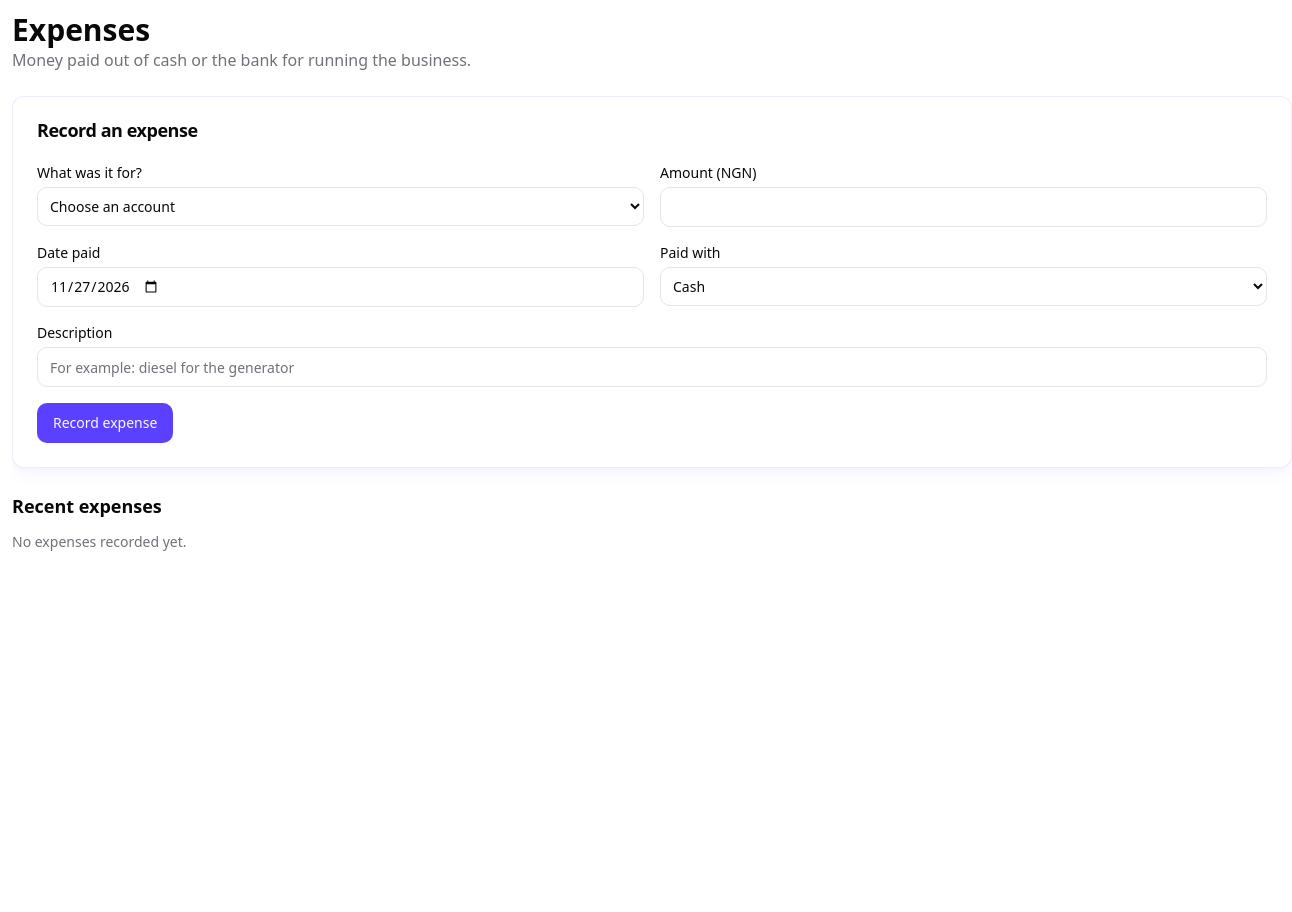
offline, an expense waits on the phone and is sent with its own request
The width and height of the screenshot is (1292, 912).
Select "6300 Fuel and power" in the dropdown named "Expense account" at (340, 206), box [37, 187, 644, 226]
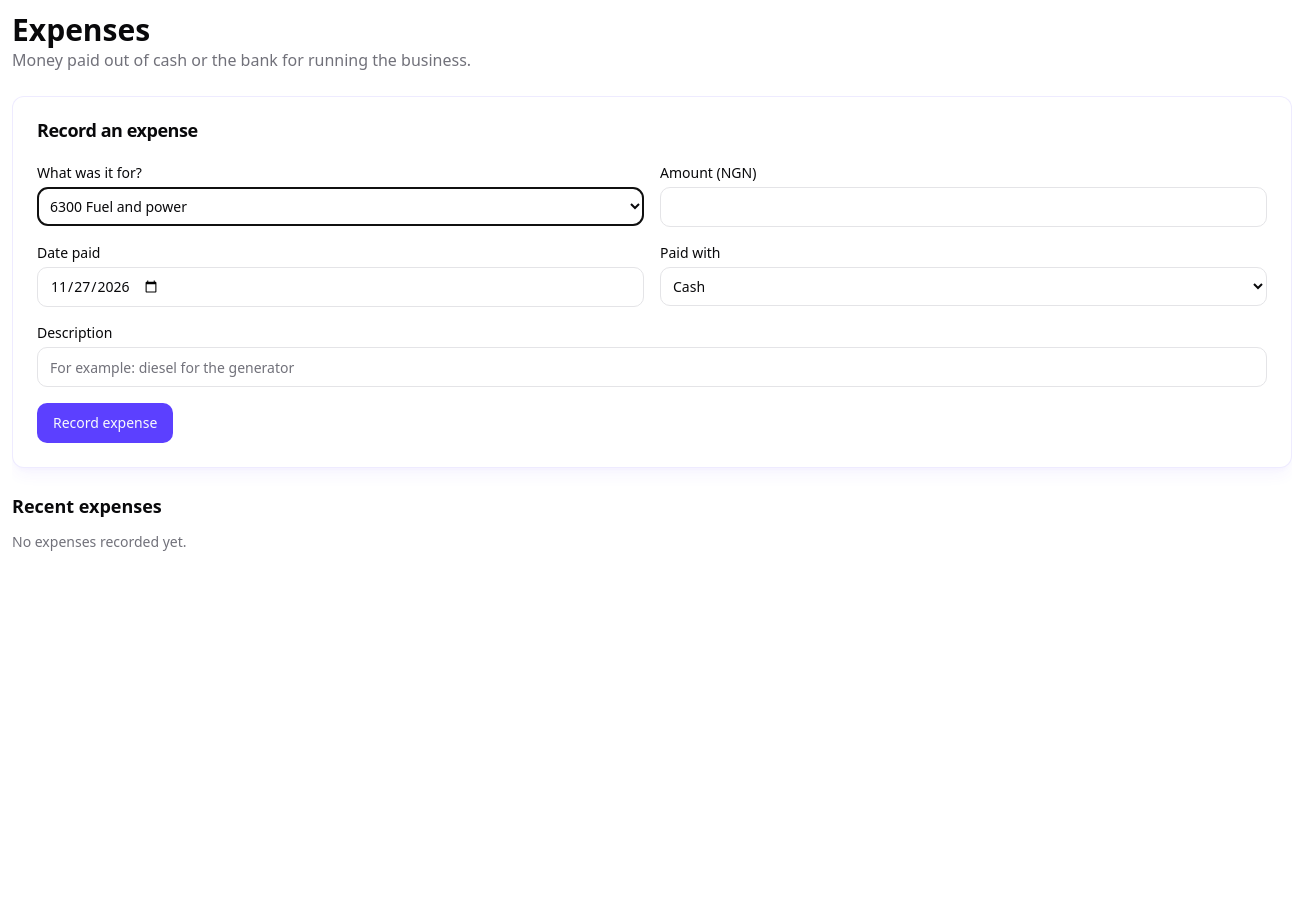
Type "2500" into the field labelled "Amount (NGN)".
click(964, 207); type("2500")  # box [660, 187, 1267, 227]
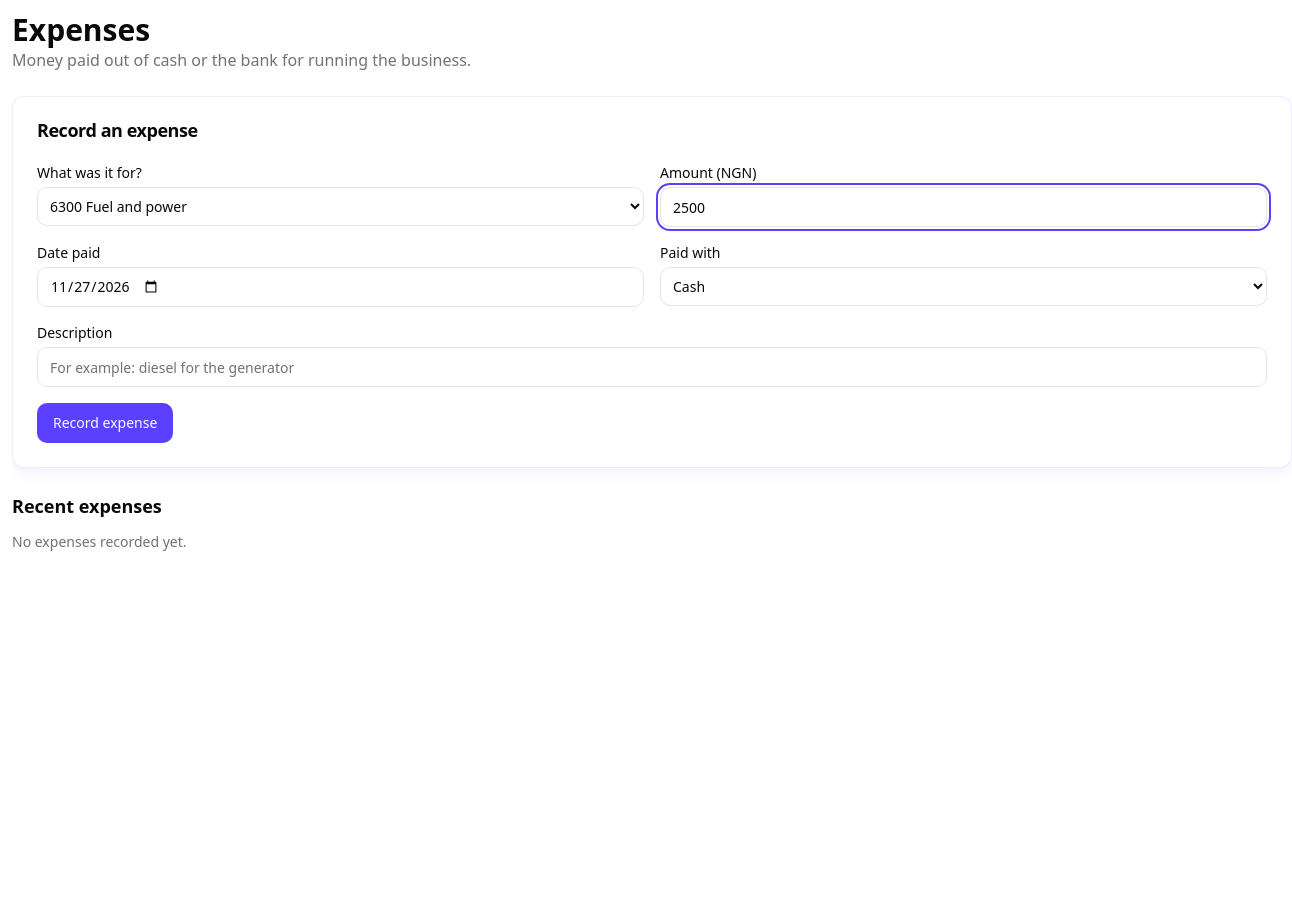
Type "Diesel for the generator" into the field labelled "Description".
click(652, 367); type("Diesel for the generator")  # box [37, 347, 1267, 387]
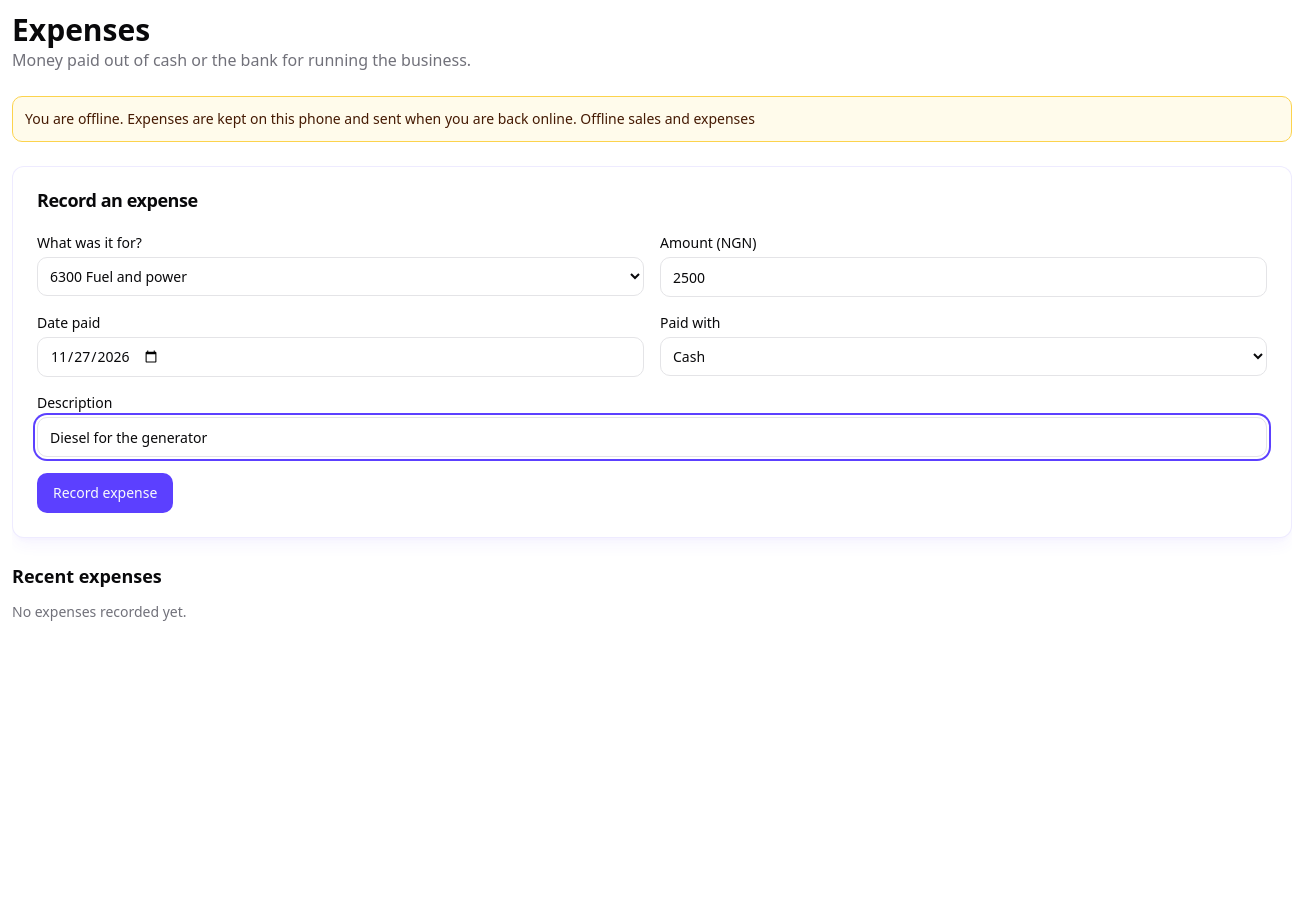
Click the button "Record expense".
click(105, 493)  # box [37, 473, 173, 513]
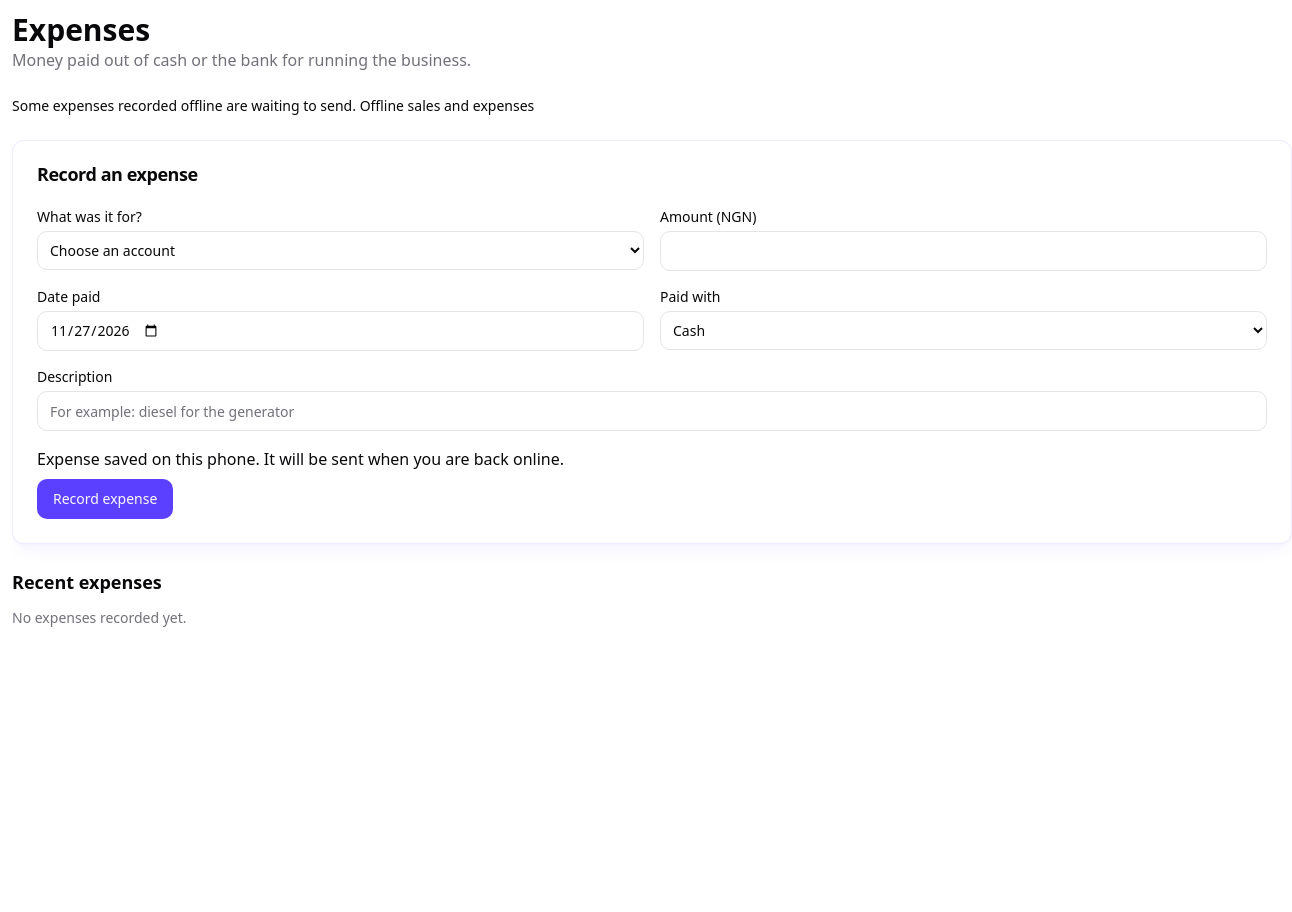
Expected: the text "Expense saved on this phone. It will be sent when you are back online." is shown, [37, 448, 564, 470]
